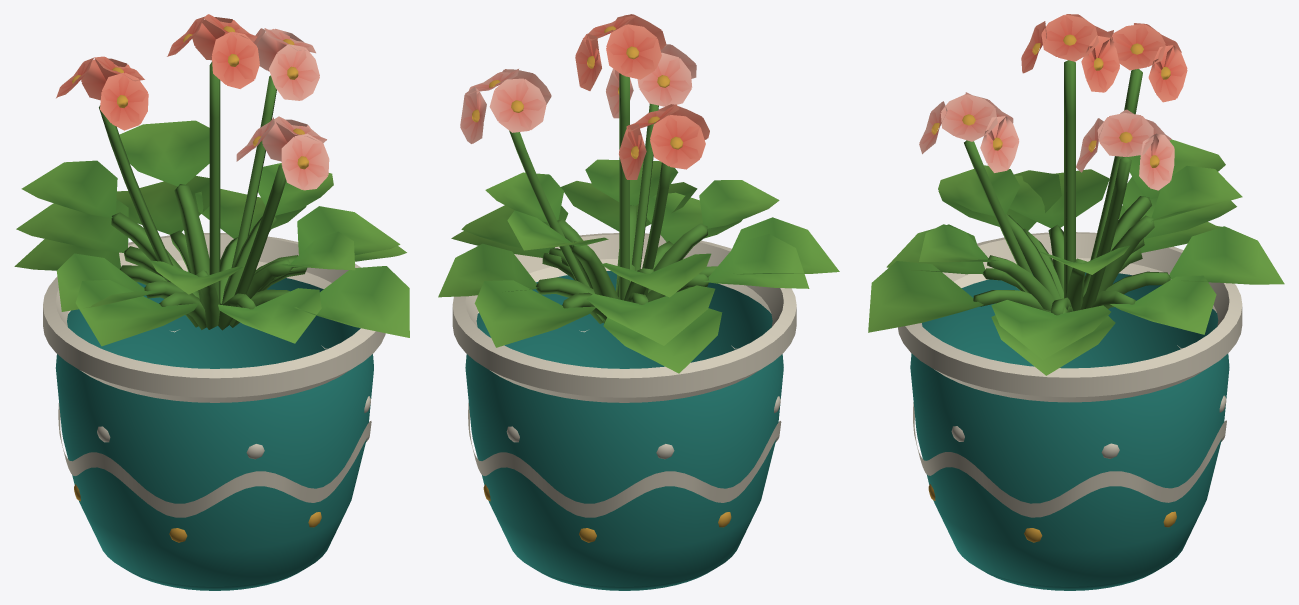
File: potted_geranium_teal.glb
The picture shows the model from 3 angles, left to right: view 1: azimuth 30°, elevation 25°; view 2: azimuth 150°, elevation 25°; view 3: azimuth 270°, elevation 25°; orthographic projection.
Visible parts, largest first — view 1: potted_geranium_teal; view 2: potted_geranium_teal; view 3: potted_geranium_teal.
Part boxes in pixels (box(x1,y1,x2,y2)): potted_geranium_teal: box(14, 14, 409, 590); potted_geranium_teal: box(438, 14, 839, 590); potted_geranium_teal: box(868, 14, 1284, 590).
Bounding box in the file's own units: 0.4693 × 0.678 × 0.4831.
